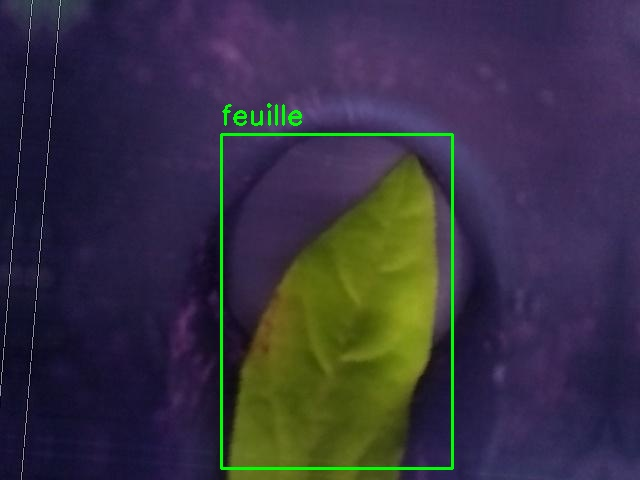feuille: (221, 134, 452, 468)
